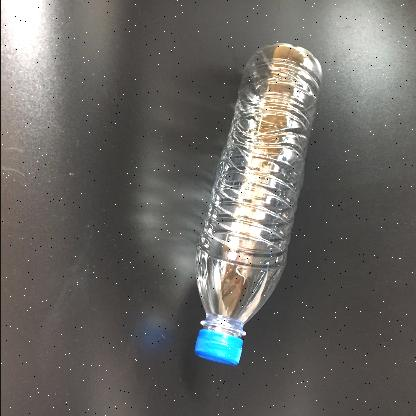Plastic Bottle: (192, 42, 322, 366)
